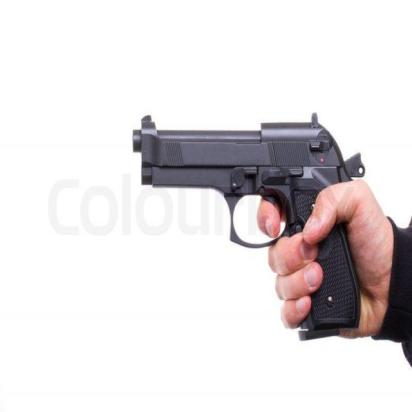Gun: (126, 111, 373, 336)
